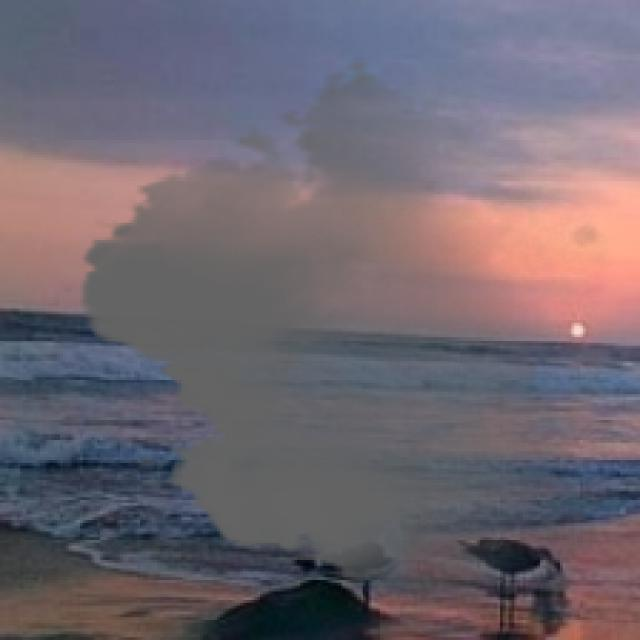Smoke: (60, 57, 626, 594)
